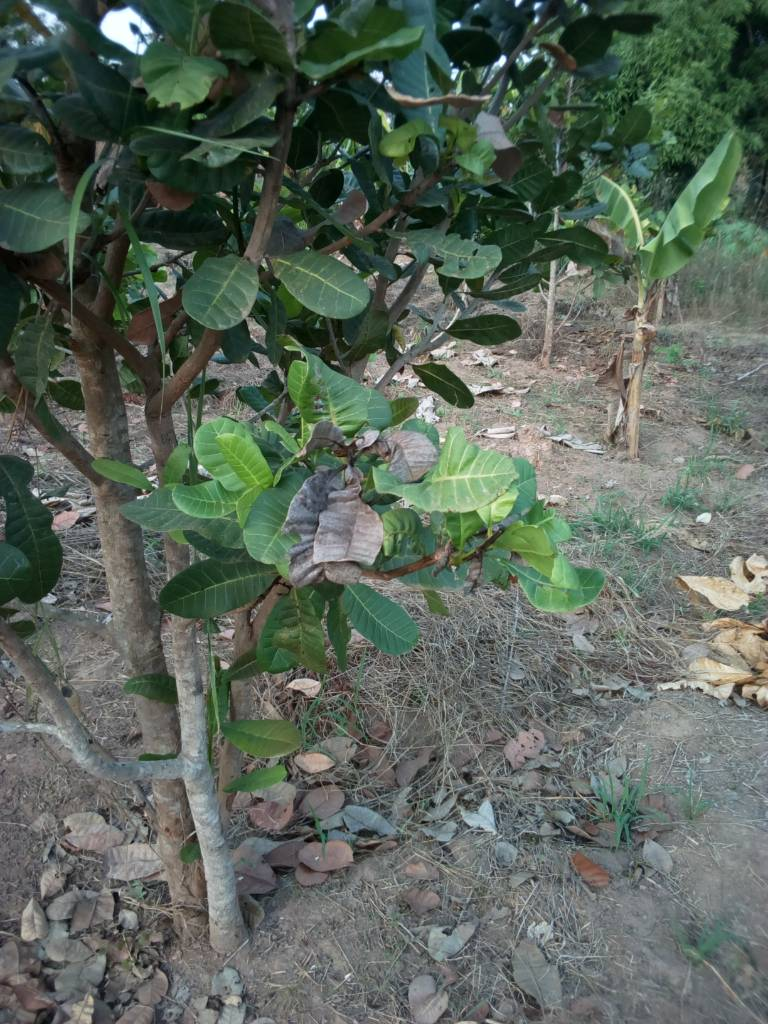Dessèchement des bourgeons: (293, 419, 390, 559)
